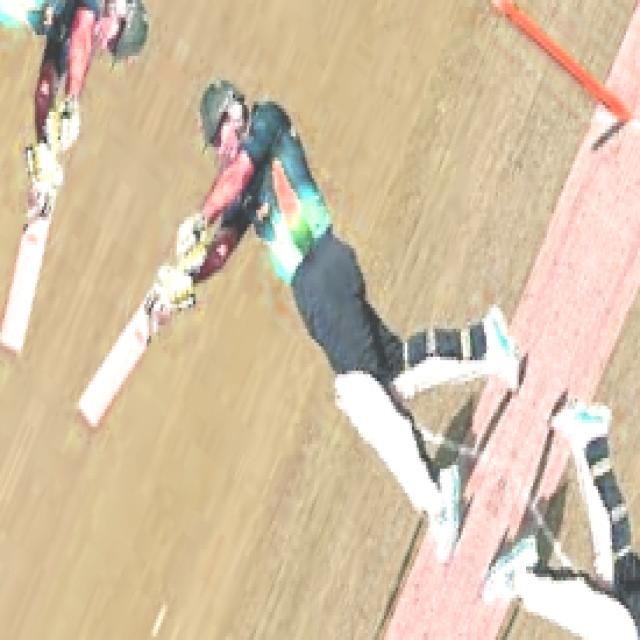toe: (74, 395, 95, 438)
